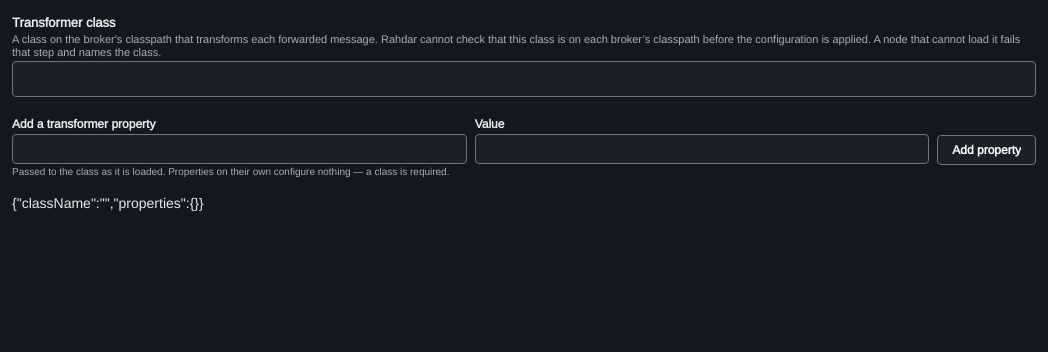
TransformerFields › adds a property from the pair of fields, and says properties alone configure nothing
Type "region" into the field labelled "Add a transformer property" at x=239, y=149, box [12, 134, 467, 164]
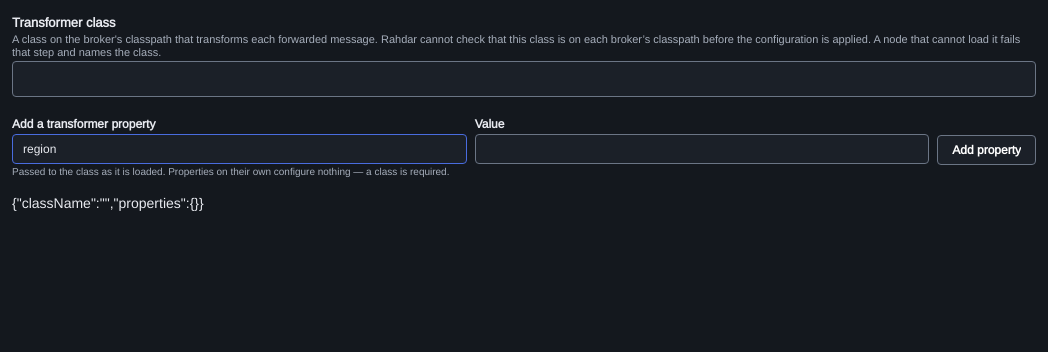
Type "dr" into the field labelled "Value" at x=702, y=149, box [475, 134, 929, 164]
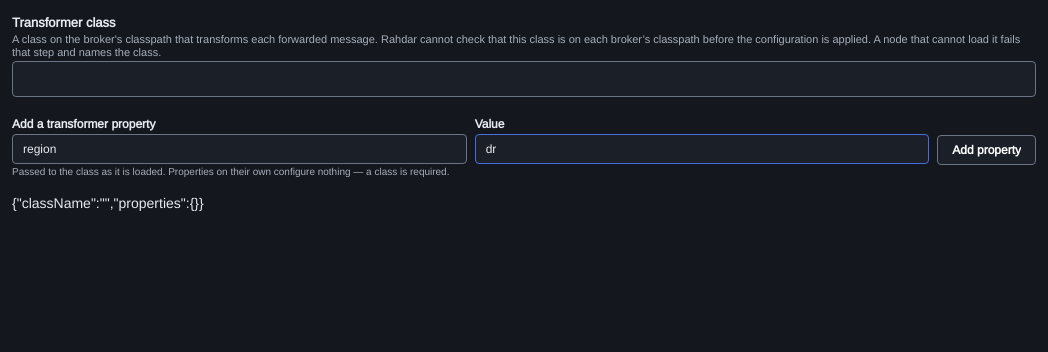
Click the button "Add property" at x=987, y=150, box [937, 135, 1036, 165]
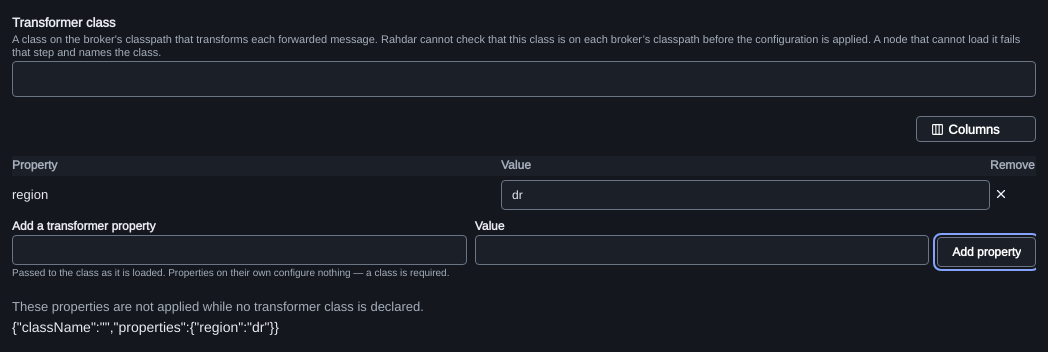
Now the text "not applied while no transformer class is declared" is shown, box [12, 298, 424, 315]
